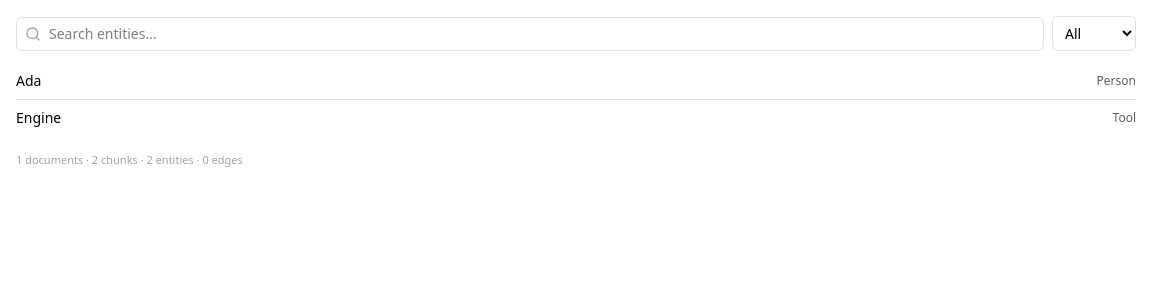
Test case: BrowseView › (c) detail renders chunk texts and older capture badge
Click the text "Ada".
click(29, 81)  # box [16, 71, 41, 91]
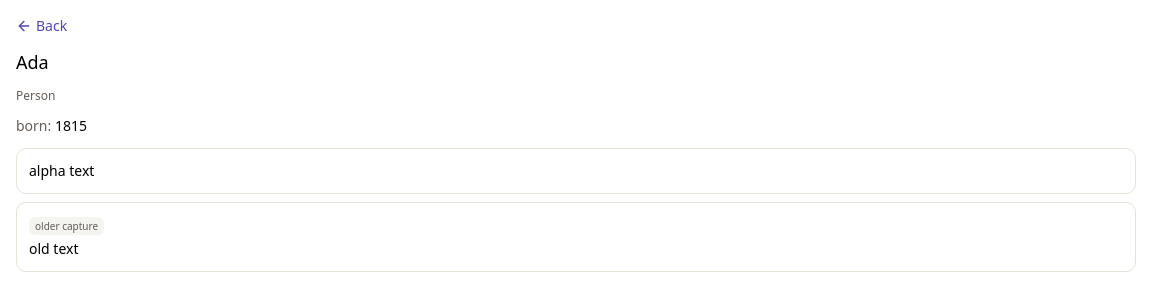
Check: the text "alpha text" is shown, box [29, 161, 94, 180]
Check: the text "old text" is shown, box [29, 239, 78, 258]
Check: the text "older capture" is shown, box [29, 217, 104, 235]
